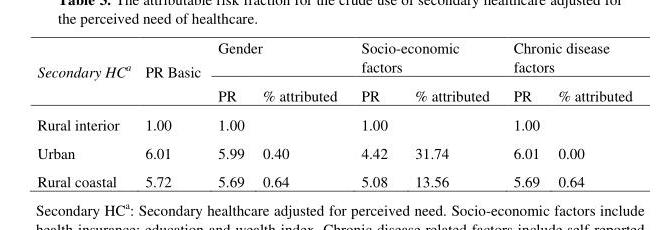table: (36, 36, 631, 190)
table column: (36, 36, 137, 190), (400, 36, 500, 190), (252, 36, 348, 190), (548, 36, 631, 190), (137, 36, 208, 190), (348, 36, 400, 190), (500, 36, 548, 190), (208, 36, 252, 190)
table column header: (36, 36, 631, 109)
table row: (36, 36, 631, 80), (36, 80, 631, 109), (36, 137, 631, 166), (36, 109, 631, 137), (36, 166, 631, 190)
table spanning cell: (36, 36, 137, 109), (348, 36, 500, 80), (208, 36, 348, 80), (500, 36, 631, 80), (137, 36, 208, 109)
